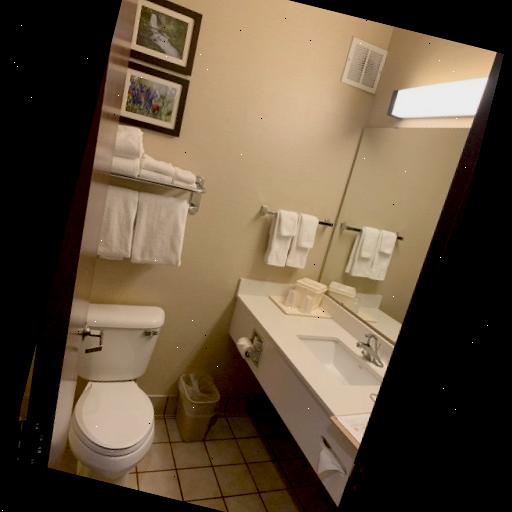clean mirror: (301, 102, 470, 340)
clean_floor: (128, 407, 316, 512)
clean_sink: (228, 280, 390, 505)
clean_toilet: (47, 288, 182, 490)
folded_towel: (90, 180, 196, 272), (264, 206, 320, 274), (344, 224, 398, 285), (134, 150, 201, 192), (112, 125, 148, 177)
